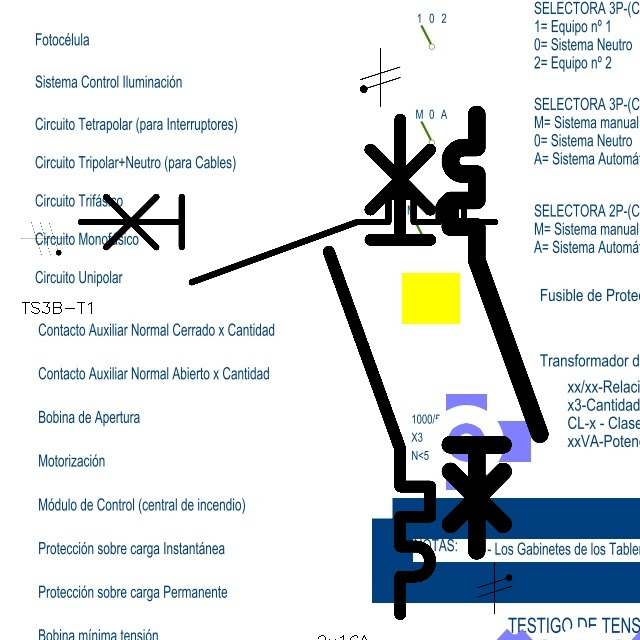interruptor_termomagnetico: (316, 106, 443, 627), (439, 103, 551, 562), (70, 186, 506, 292)
